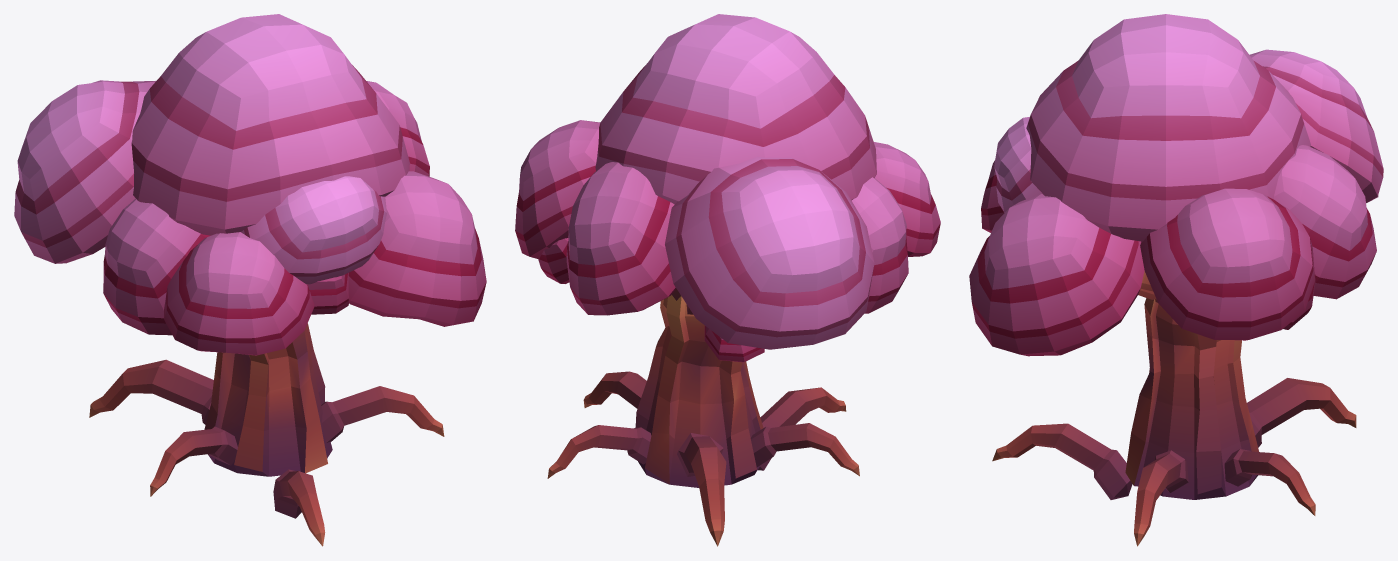
Rendered from Tree_Large_C.fbx.
3 renders of one model, left to right at view 1: azimuth 30°, elevation 25°; view 2: azimuth 150°, elevation 25°; view 3: azimuth 270°, elevation 25°, orthographic.
Visible parts, largest first — view 1: Tree_Large_C; view 2: Tree_Large_C; view 3: Tree_Large_C.
Boxes of the visible parts, x1,y1,x2,y2 form: Tree_Large_C: [14, 14, 486, 546]; Tree_Large_C: [515, 14, 940, 546]; Tree_Large_C: [969, 14, 1383, 546].
Bounding box in the file's own units: 254 × 317 × 252.
